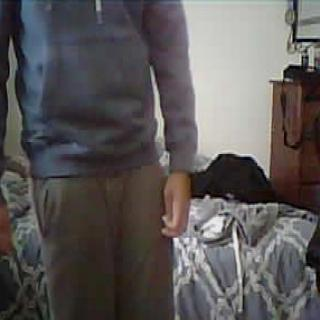Blue Hoodie: (0, 0, 192, 164)
Gray Sweatpants: (39, 170, 168, 320)
